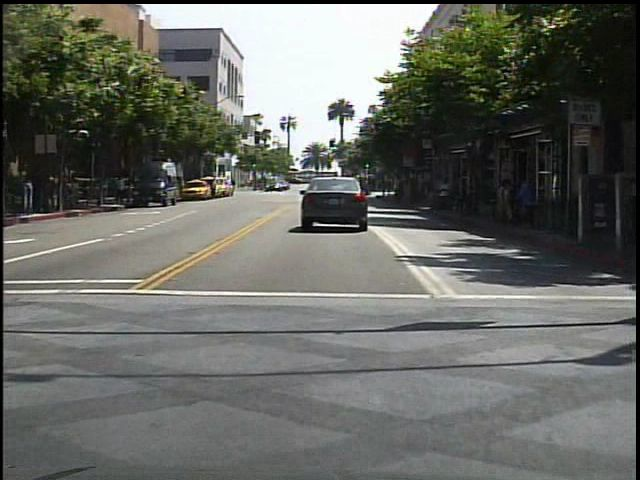person: (435, 175, 454, 214)
